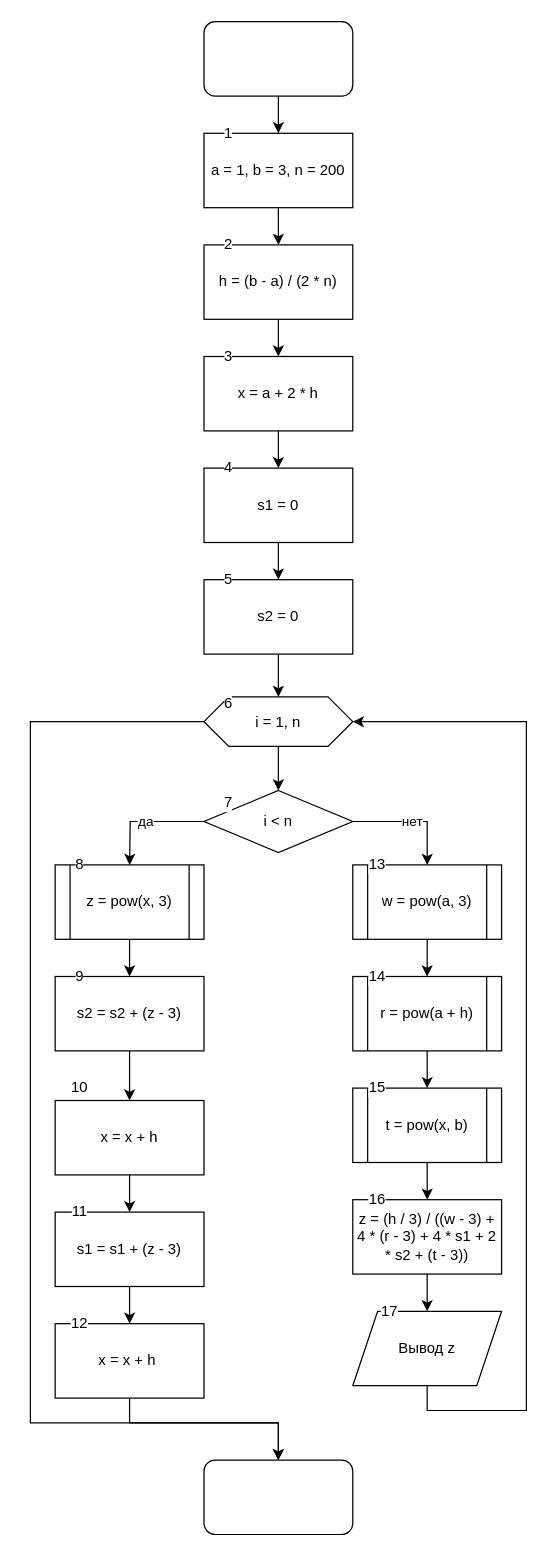
The diagram is 558 pixels wide and 1556 high, and some of its shapes have lost their labels. Here are the shapes that lost their labels. From the top down, the centre of each, then its label:
At point (278, 58): "Начало".
At point (278, 1496): "Конец".
